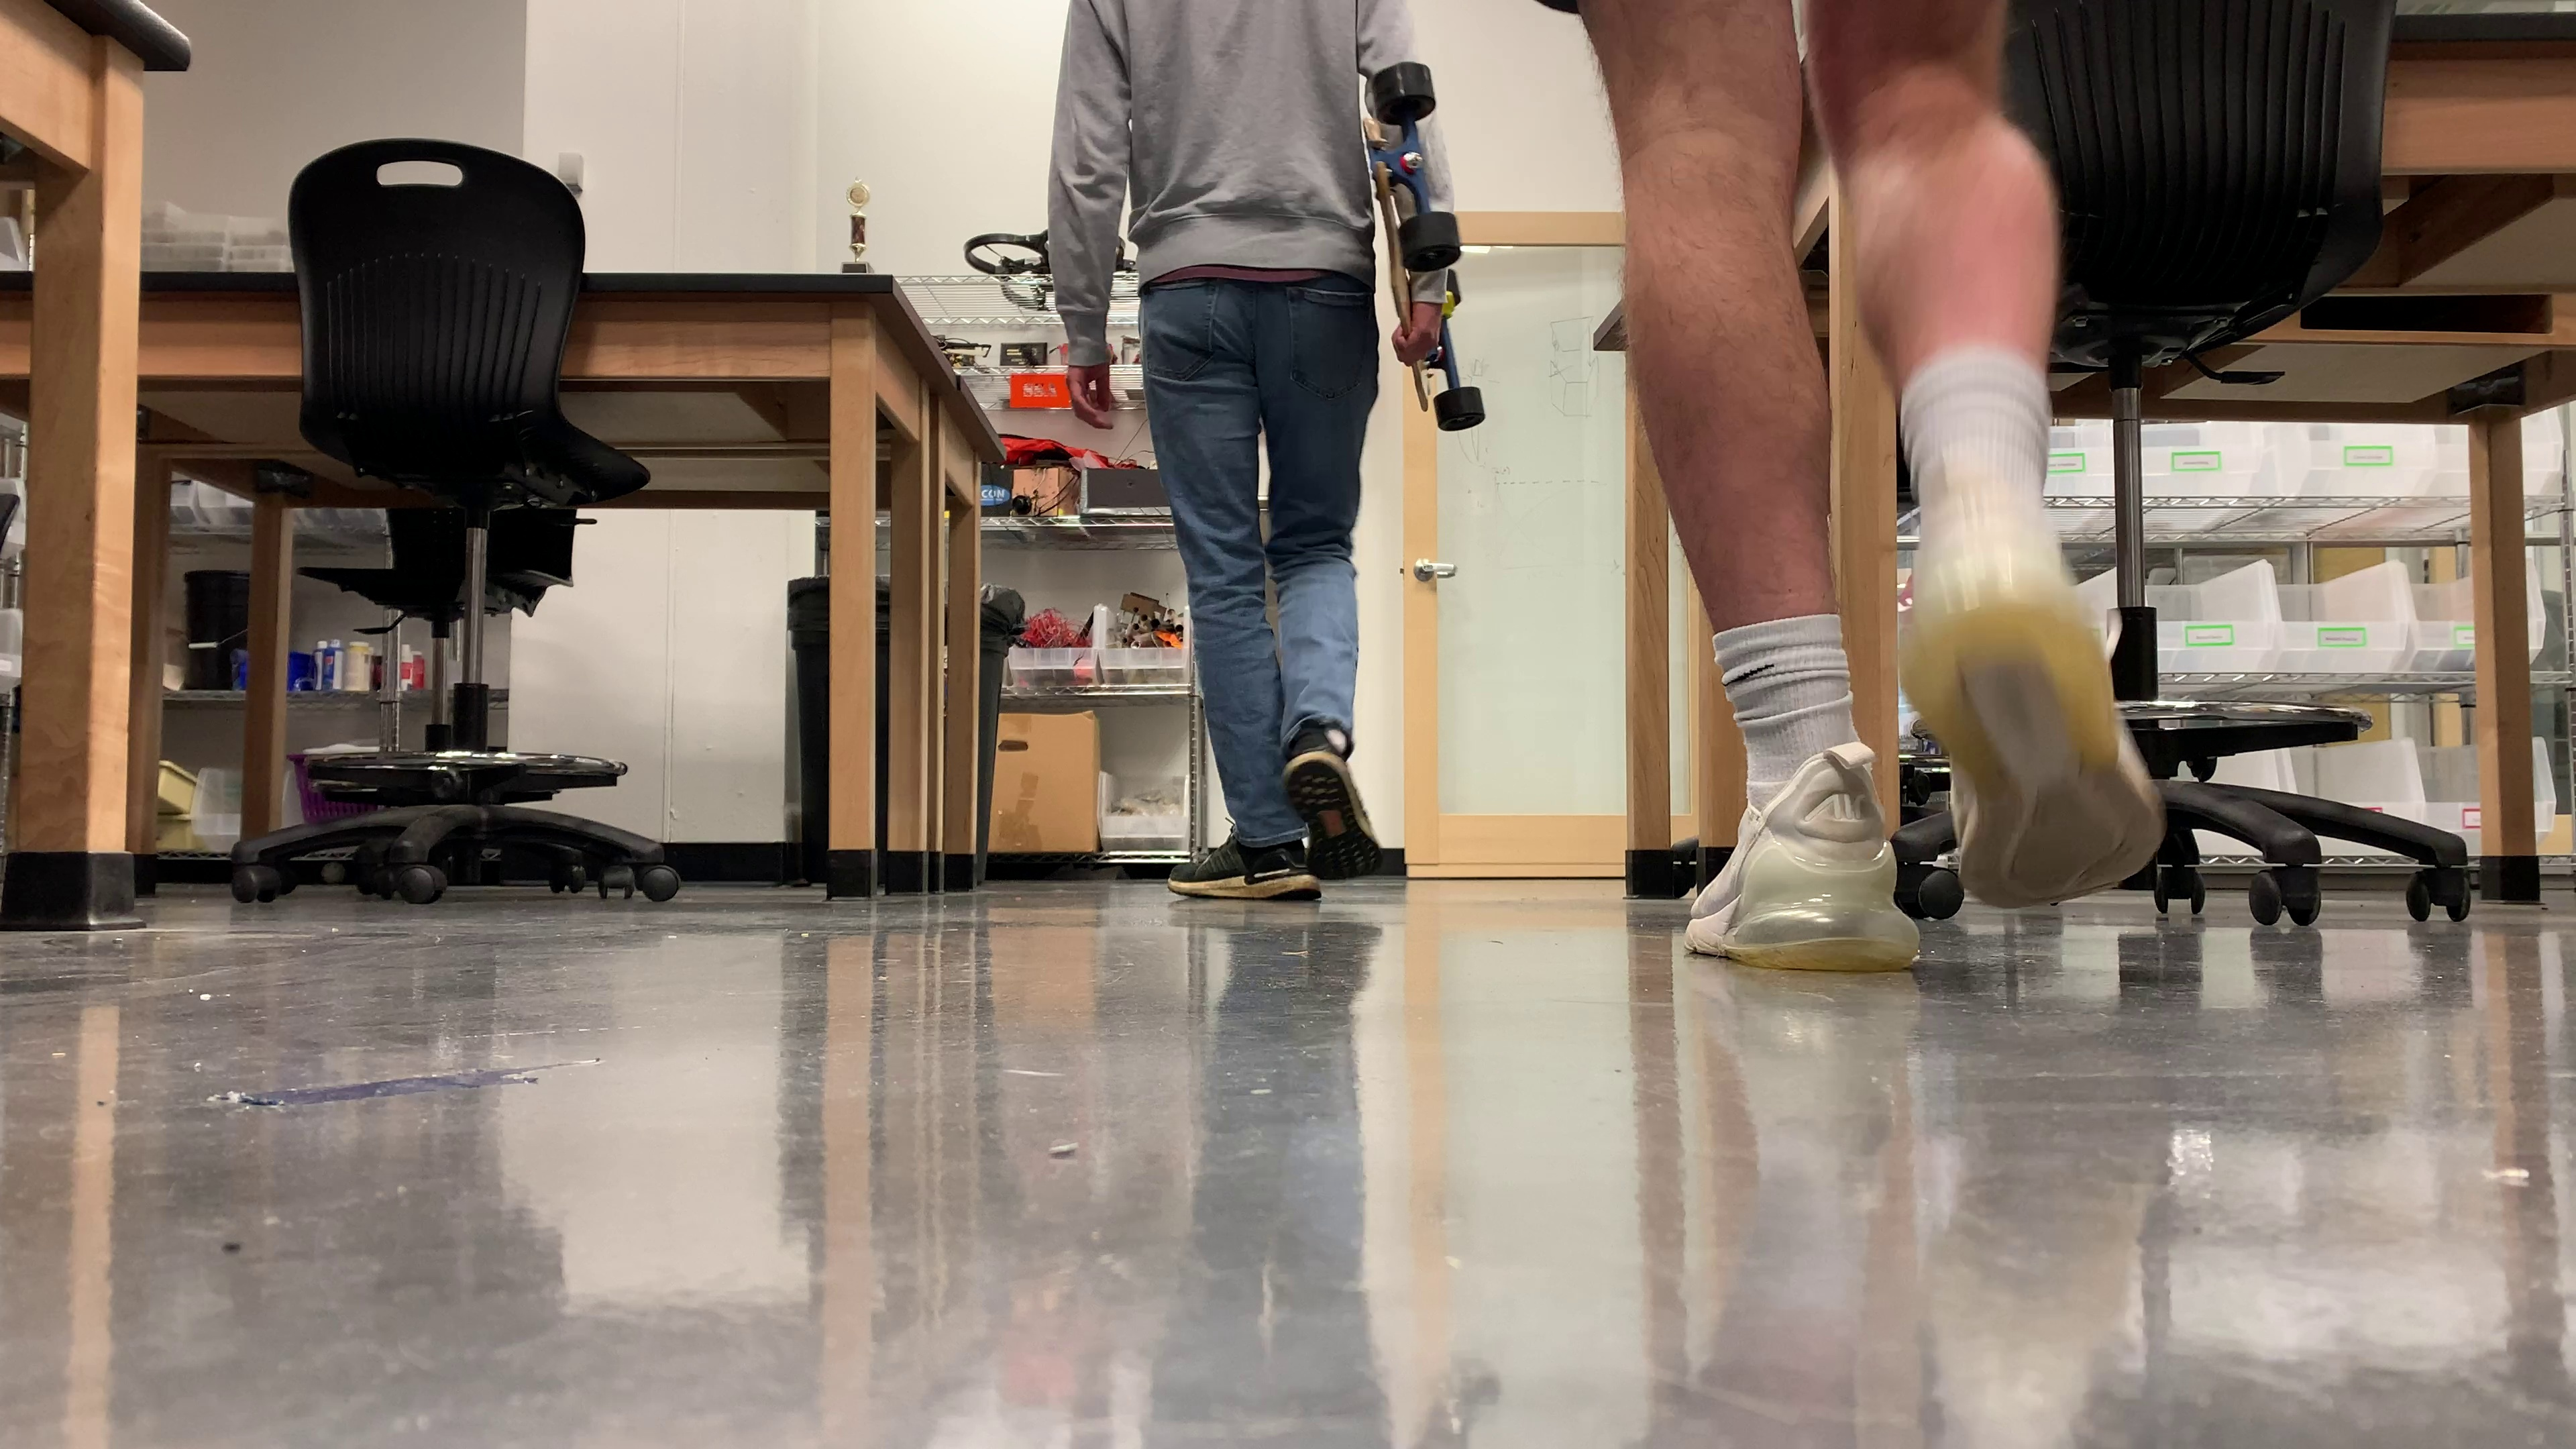shoe: (1893, 487, 2162, 906), (1688, 750, 1921, 968), (1281, 722, 1380, 881), (1166, 839, 1320, 902)
